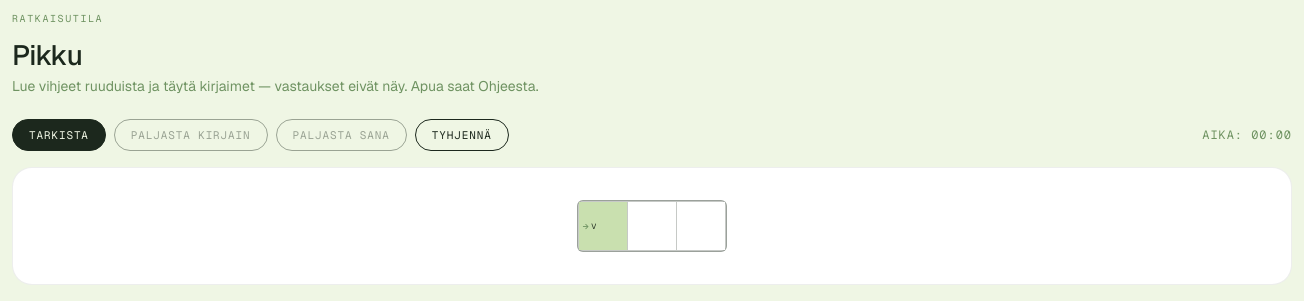
Test: SolveMode — check / reveal / completion / resume › reveals the selected letter with the solution
Click the 2nd cell. click: (652,226)
box: left=628, top=202, right=676, bottom=250
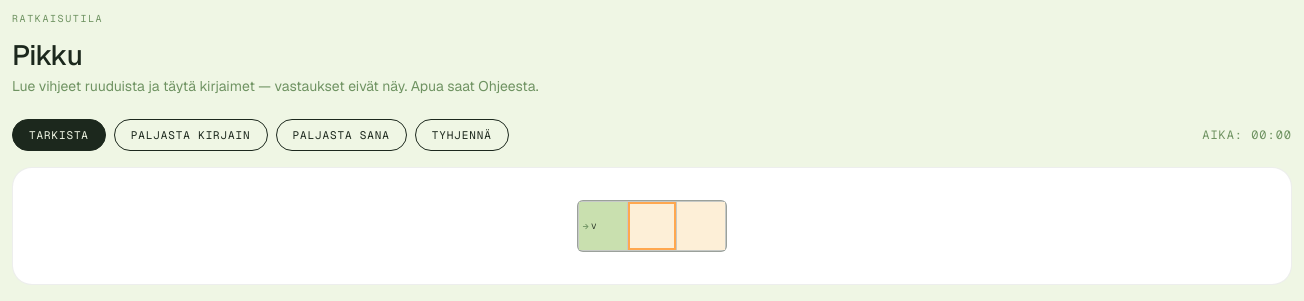
Click the button "Paljasta kirjain". click: (191,135)
box: left=114, top=119, right=268, bottom=151
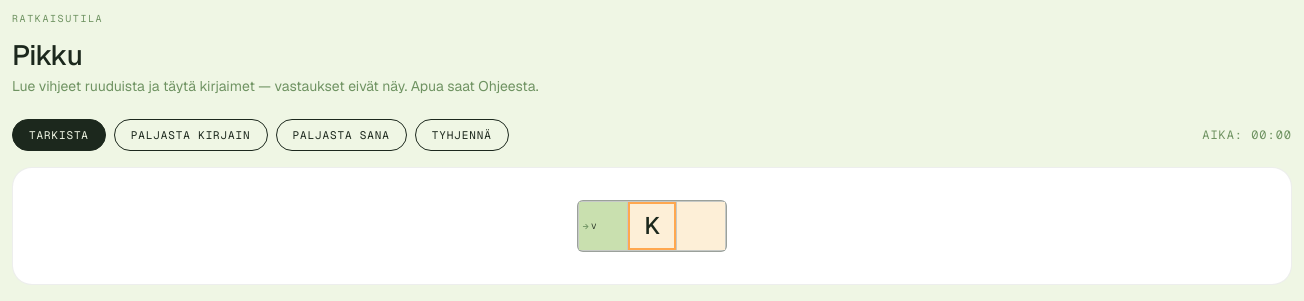
Expected: the cell "K" is shown, left=628, top=202, right=676, bottom=250
